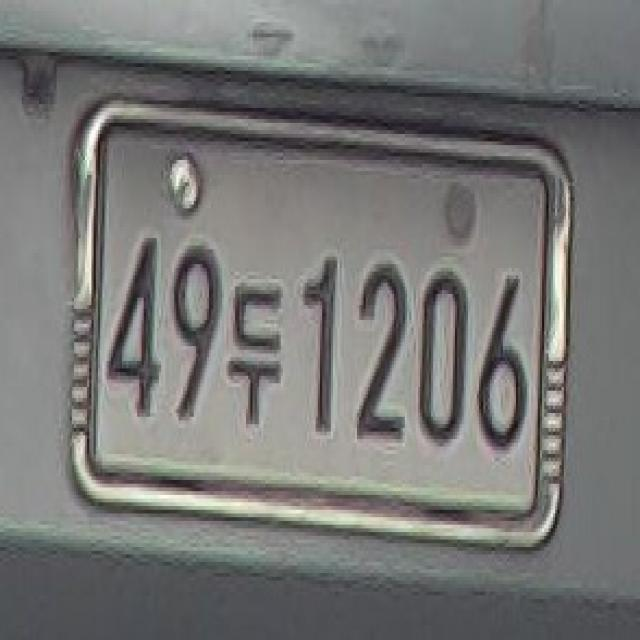0: (416, 242, 474, 479)
1: (294, 238, 346, 452)
2: (350, 217, 410, 468)
4: (104, 213, 162, 442)
6: (476, 245, 531, 472)
9: (167, 227, 221, 438)
du: (224, 266, 285, 446)
license_plate: (70, 88, 578, 555)
